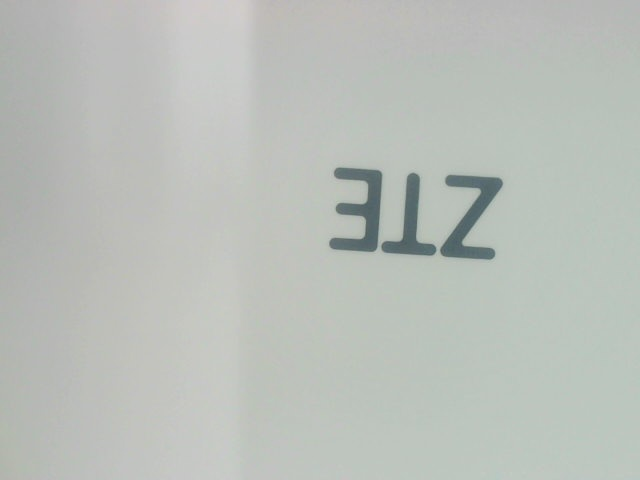AN_ZTE: (325, 158, 507, 264)
